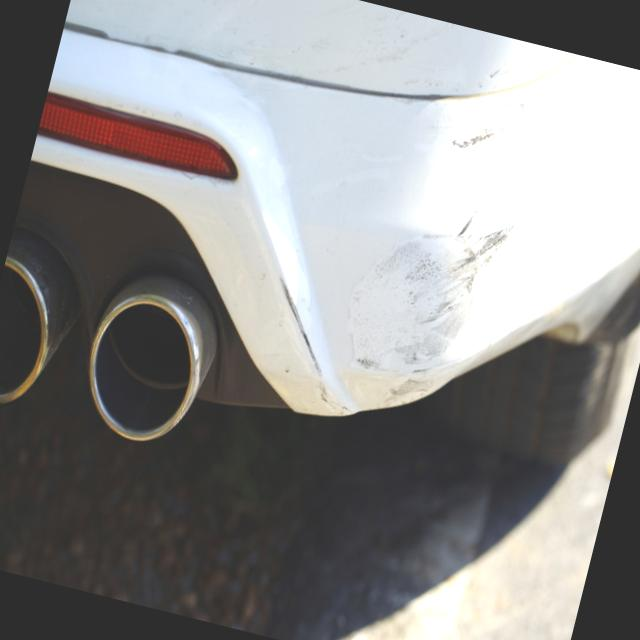Rayure: (316, 176, 521, 425), (246, 273, 354, 409), (447, 85, 544, 179)
